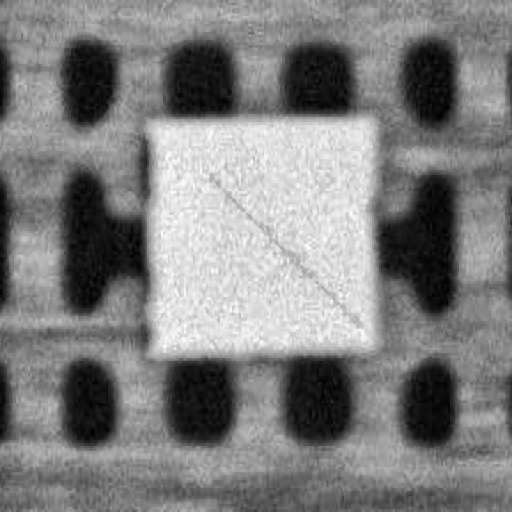DIE_CRACK: (310, 116, 512, 216)
